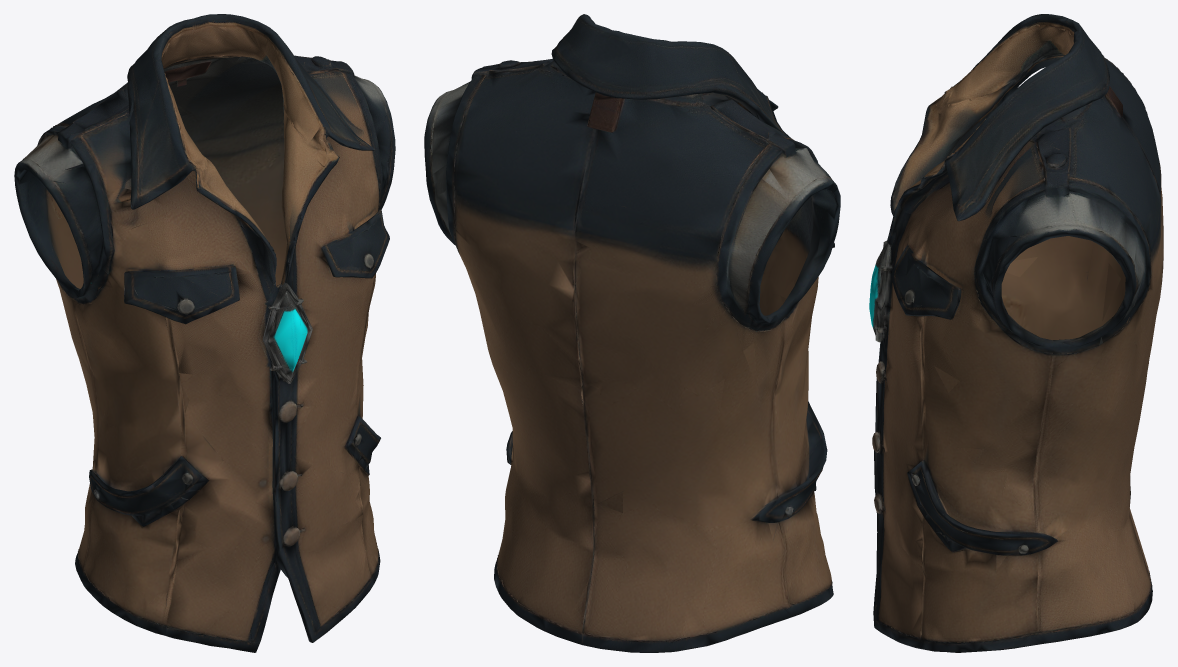
The model's file is chest_01.glb.
The picture shows the model from 3 angles, left to right: view 1: azimuth 30°, elevation 25°; view 2: azimuth 150°, elevation 25°; view 3: azimuth 270°, elevation 25°; orthographic projection. The views are drawn at different scales.
Visible parts, largest first — view 1: mesh_node; view 2: mesh_node; view 3: mesh_node.
Boxes of the visible parts, x1=… form: mesh_node: x1=14, y1=14, x2=395, y2=652; mesh_node: x1=424, y1=14, x2=840, y2=652; mesh_node: x1=869, y1=14, x2=1163, y2=652.
Size of the model in its own units: 0.3878 by 0.6 by 0.2737.
1 material, 1 textured.
